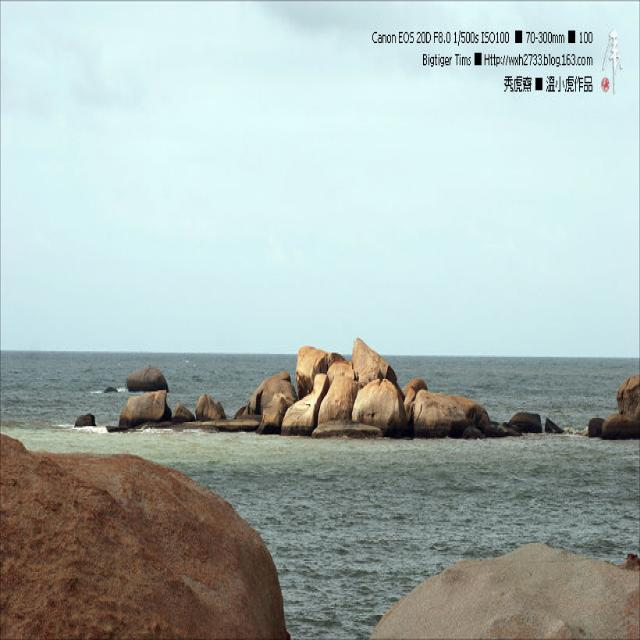reef: (74, 336, 564, 457)
